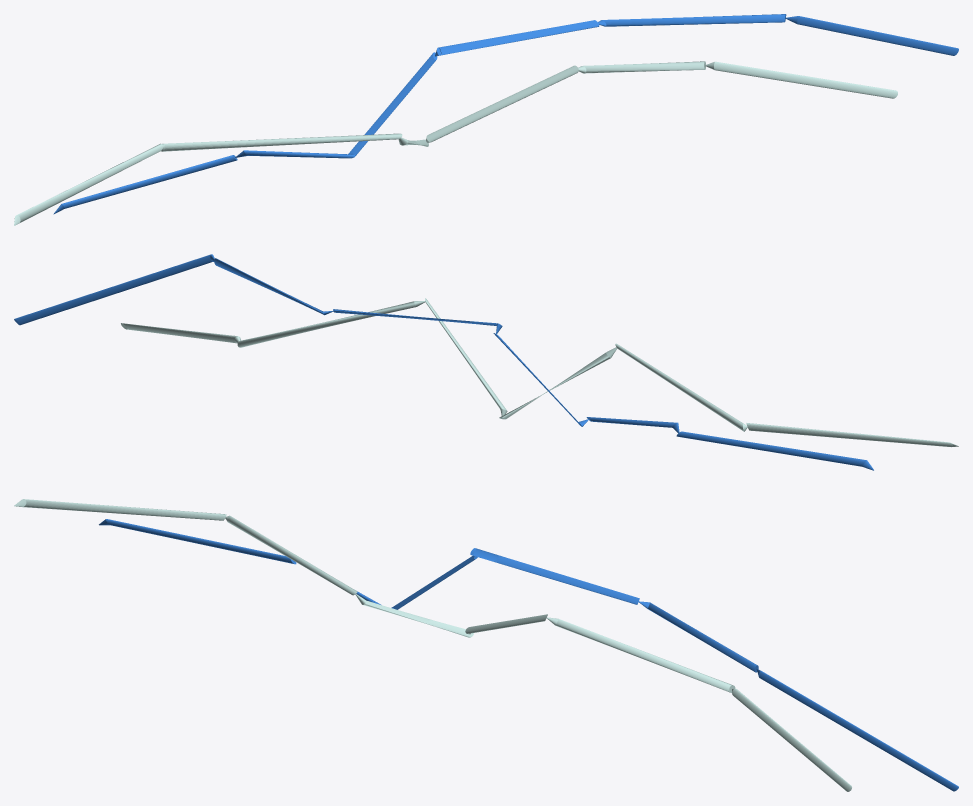
The model's file is lightningBolt2.fbx.
3 views of the same model, one above another, from view 1: azimuth 30°, elevation 25°; view 2: azimuth 150°, elevation 25°; view 3: azimuth 330°, elevation 25° (orthographic). The views are drawn at different scales.
Parts seen in each view (by area): view 1: Cylinder, Cylinder.001; view 2: Cylinder, Cylinder.001; view 3: Cylinder, Cylinder.001.
Part boxes in pixels (left/top/right/bottom): Cylinder: left=14, top=61, right=897, bottom=225; Cylinder.001: left=53, top=14, right=958, bottom=214; Cylinder: left=121, top=298, right=958, bottom=447; Cylinder.001: left=14, top=254, right=873, bottom=470; Cylinder: left=14, top=499, right=851, bottom=791; Cylinder.001: left=99, top=519, right=958, bottom=791.
Bounding box in the file's own units: 928 × 121 × 94.01.
